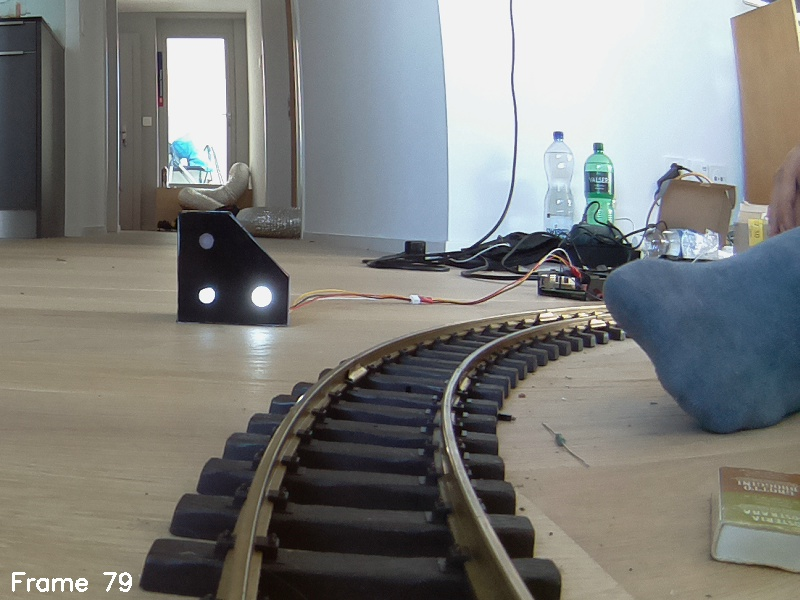Halt: (179, 210, 289, 324)
